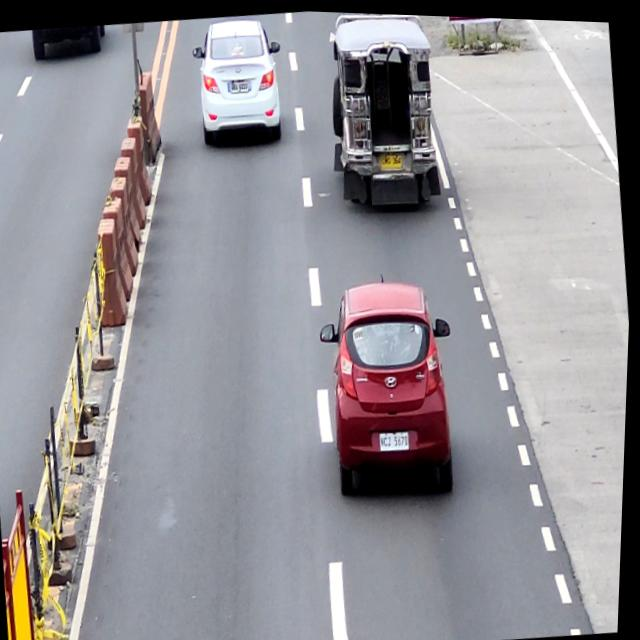Car: (311, 269, 470, 502), (186, 11, 291, 151)
Jeep: (317, 9, 449, 216)
License-Plate: (380, 426, 414, 449), (380, 148, 404, 168), (230, 78, 251, 91)
